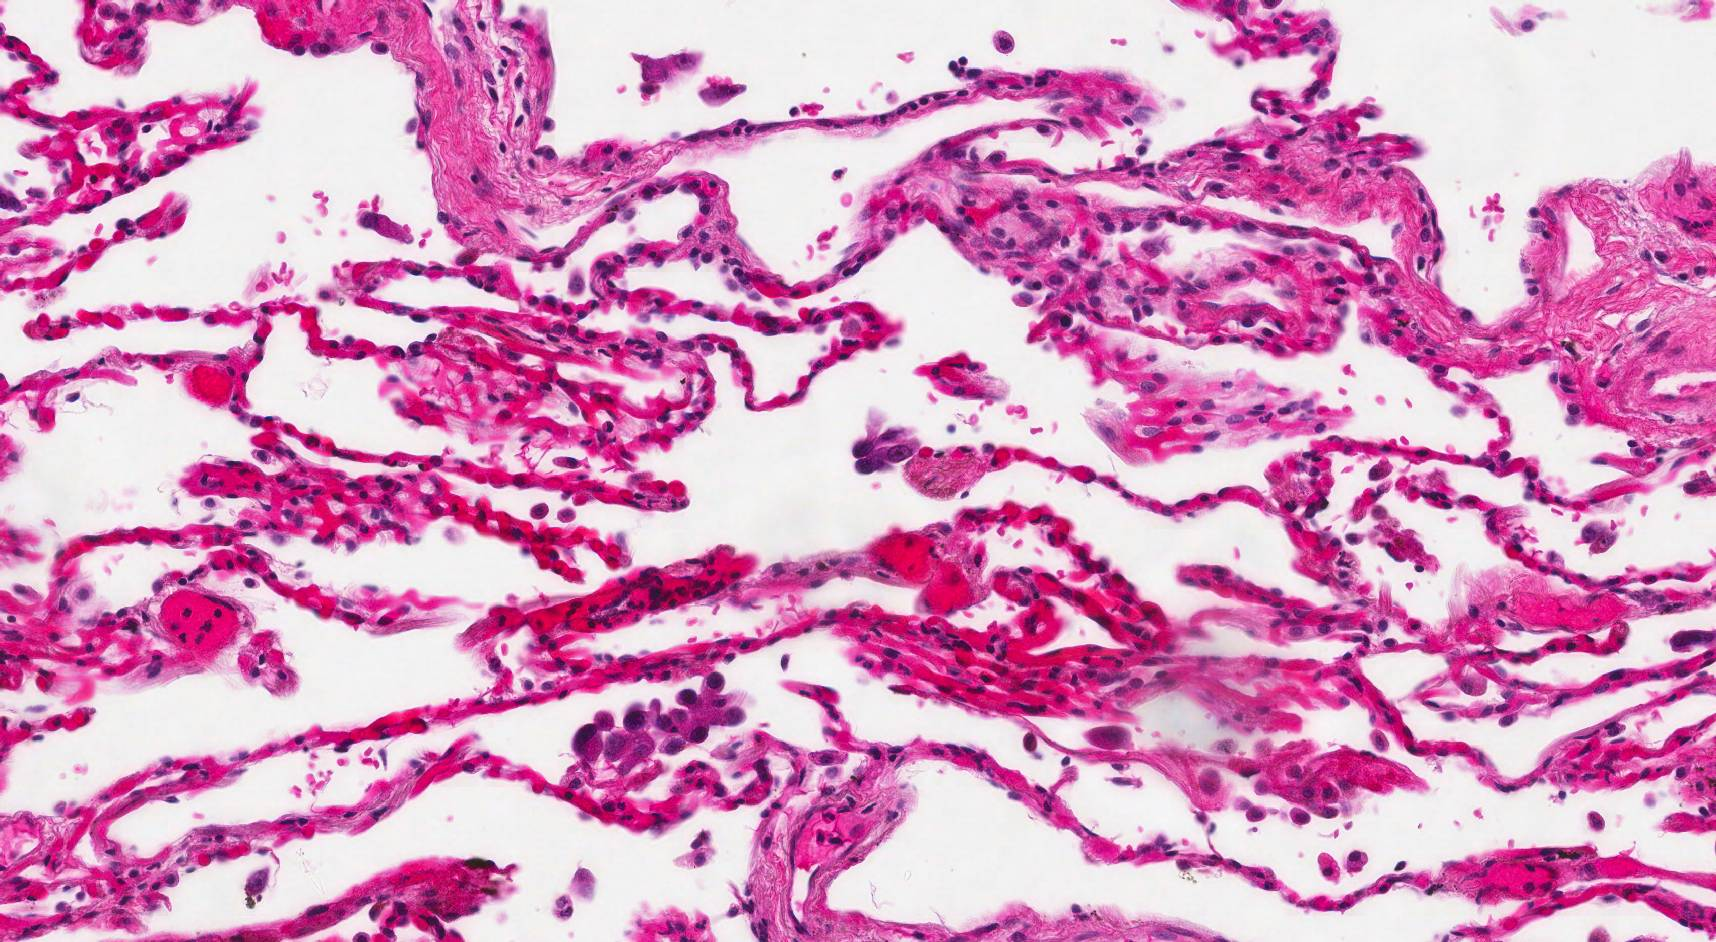stas: (568, 673, 745, 776), (849, 425, 920, 473)
